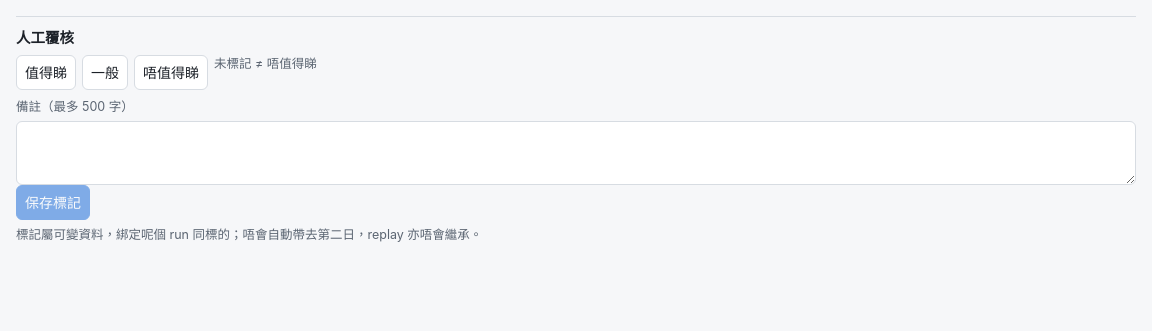
Scenario: ReviewPanel › keeps the user's input and names the conflict on a 409
Expected: the element showing "值得睇 一般 唔值得睇 未標記 ≠ 唔值得睇" is shown, [16, 55, 317, 90]
Type "保留輸入" into the text box labelled "備註（最多 500 字）".
click(576, 152); type("保留輸入")  # box [16, 120, 1136, 184]
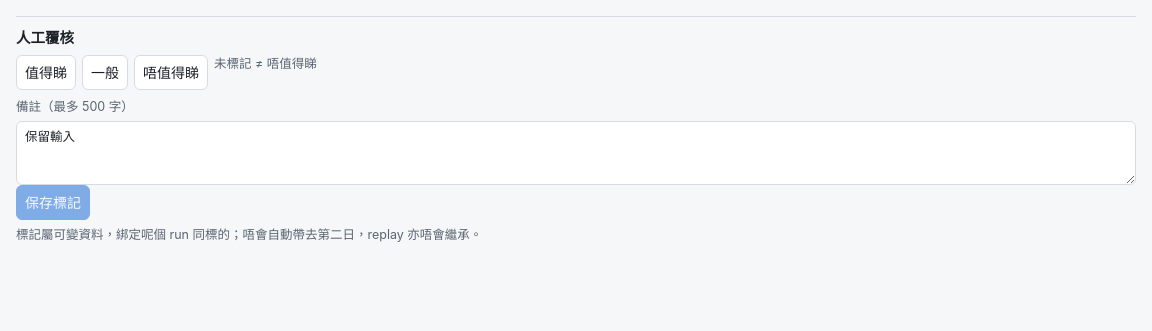
Click the button "值得睇".
click(46, 72)  # box [16, 55, 76, 90]
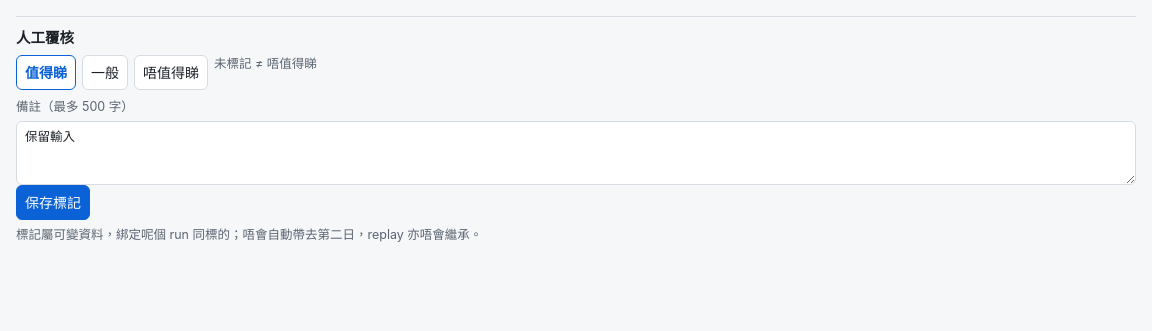
Click the button "保存標記".
click(53, 202)  # box [16, 184, 90, 220]
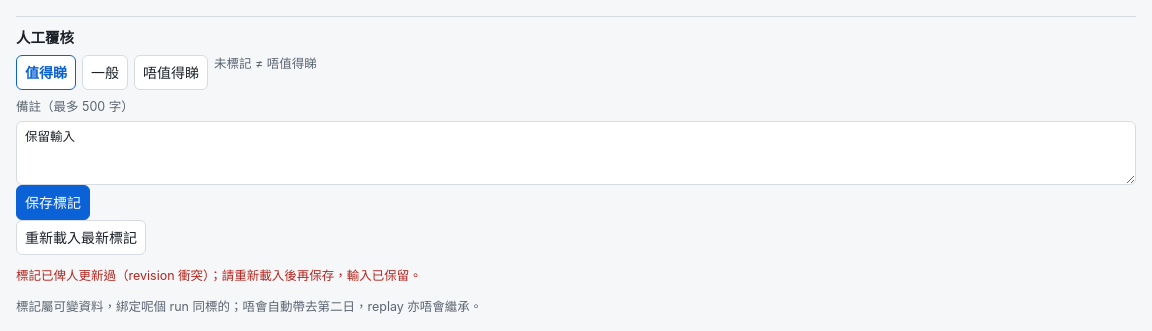
Now the text "標記已俾人更新過（revision 衝突）；請重新載入後再保存，輸入已保留。" is shown, box [16, 268, 422, 283]
Now the button "重新載入最新標記" is shown, box [16, 220, 146, 254]
